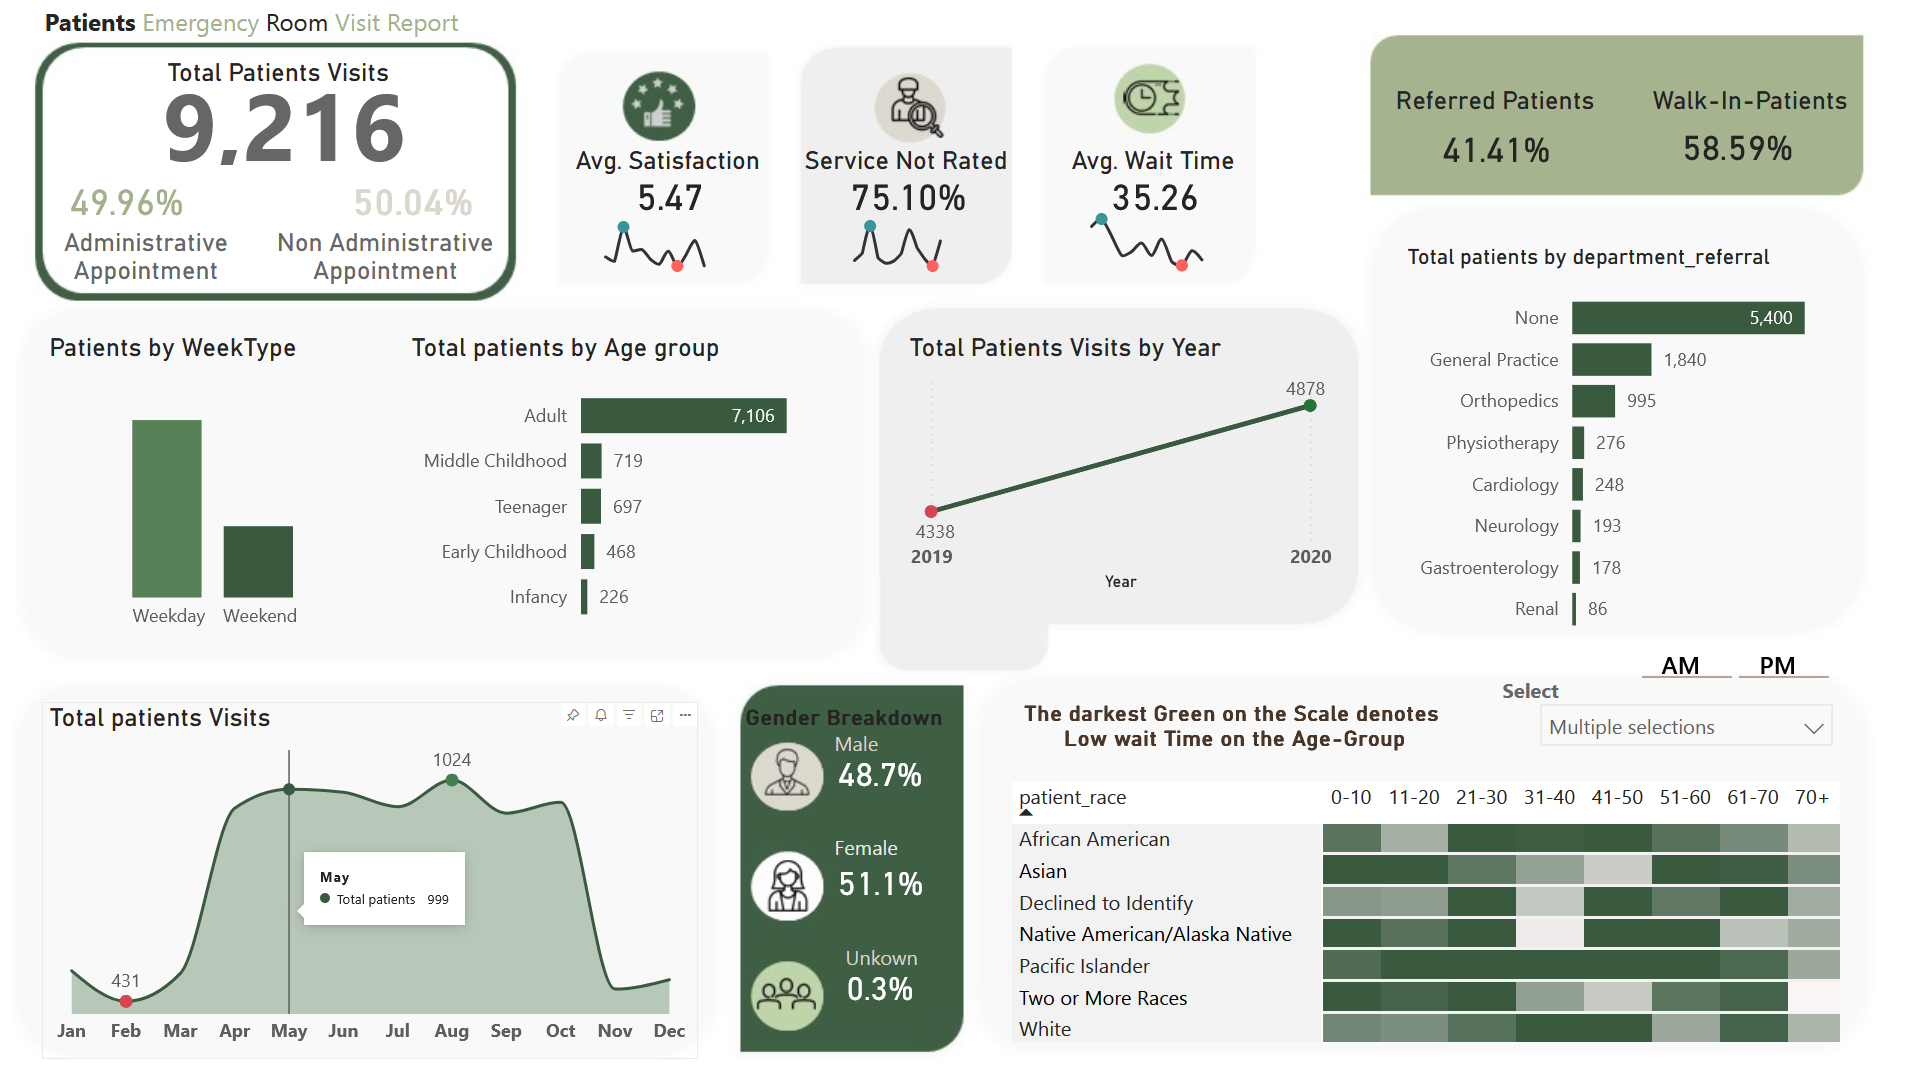

Layout of this report page (visuals, bound fields, positions):
{"tool":"powerbi","page":{"name":"Page 1","canvas":[1280,720],"ordinal":0},"visuals":[{"type":"card","fields":{"Values":["Calculations.Total patients"]},"box":[85,45.7,209.4,70.1],"z":0},{"type":"card","fields":{"Values":["Calculations.% Administrative Schedule"]},"box":[227.6,114.2,94.5,40.9],"z":1000},{"type":"card","fields":{"Values":["Calculations.% Non Administrative Schedule"]},"box":[37,113.4,96.1,41.7],"z":2000},{"type":"card","title":"Avg. Satisfaction","fields":{"Values":["Calculations.Average satisfaction score"]},"box":[378,97.6,133.9,48.8],"z":3000},{"type":"card","title":"Service Not Rated","fields":{"Values":["Calculations.% No Rating"]},"box":[529.9,97.6,147.2,48.8],"z":4000},{"type":"card","title":"Avg. Wait Time","fields":{"Values":["Calculations.Average wait time"]},"box":[707.1,97.6,120.5,48.8],"z":5000},{"type":"pivotTable","fields":{"Values":["Calculations.Average satisfaction score"],"Columns":["patients_data.Age Buckets"],"Rows":["patients_data.patient_race"]},"box":[667.8,515.1,560,183.5],"z":6000},{"type":"slicer","fields":{"Values":["Parameter.Parameter"]},"box":[1013.1,458.8,214.5,53.1],"z":7000},{"type":"clusteredBarChart","fields":{"Category":["patients_data.Age group"],"Y":["Calculations.Total patients"]},"box":[269.7,221.6,291.7,205.3],"z":8000},{"type":"areaChart","title":"Total patients Visits","fields":{"Category":["Date.Month"],"Y":["Calculations.Total patients","Calculations.Values Max Point (Month)"]},"box":[29,467.3,435.4,236.5],"z":9000},{"type":"advancedSlicerVisual","fields":{"Values":["patients_data.moment"]},"box":[1085.6,413.4,136,43.8],"z":10000},{"type":"clusteredBarChart","fields":{"Y":["Calculations.Total patients"],"Category":["patients_data.department_referral"]},"box":[930.3,161.2,306.6,271.4],"z":11000},{"type":"card","fields":{"Values":["Calculations.% Referred patients"]},"box":[921.1,77.9,145.8,43.9],"z":12000},{"type":"card","fields":{"Values":["Calculations.% Unreferred patients"]},"box":[1065.5,82.1,176.3,31.9],"z":13000},{"type":"card","fields":{"Values":["Calculations.HitMap Caption"]},"box":[647,457.2,346.4,53.1],"z":14000},{"type":"textbox","box":[29.1,146.5,137.8,48],"z":15000},{"type":"textbox","box":[179.5,146.5,154.3,53.5],"z":16000},{"type":"textbox","box":[1083.9,52.4,157.9,29.7],"z":17000},{"type":"textbox","box":[902.7,52.4,181.9,29.7],"z":18000},{"type":"clusteredColumnChart","title":"Patients by WeekType","fields":{"Y":["Calculations.Total patients"],"Category":["Date.WeekType"]},"box":[29.5,221.7,228.4,206.3],"z":19000},{"type":"lineChart","title":"Total Patients Visits by Year","fields":{"Y":["Calculations.Total patients","Calculations.Values Max Point (Year)"],"Category":["Date.Year"]},"box":[599.6,221.6,289.6,176.3],"z":20000},{"type":"card","fields":{"Values":["Calculations.% Female Visit"]},"box":[550.4,485.8,70.1,58.3],"z":21000},{"type":"card","fields":{"Values":["Calculations.% Male Visit"]},"box":[550.4,558.3,70.1,57.5],"z":22000},{"type":"card","fields":{"Values":["Calculations.% Unkown"]},"box":[550.4,627.6,70.1,57.5],"z":23000},{"type":"textbox","box":[89.9,34,192.6,47.4],"z":24000},{"type":"PBI_CV_25997FEB_F466_44FA_B562_AC4063283C4C","fields":{"measure":["Calculations.Average satisfaction score"],"axis":["Date.Month"]},"box":[385.1,134.5,105.5,53.8],"z":25000},{"type":"PBI_CV_25997FEB_F466_44FA_B562_AC4063283C4C","fields":{"measure":["Calculations.% No Rating"],"axis":["Date.Month"]},"box":[550.1,133.8,97,54.5],"z":26000},{"type":"PBI_CV_25997FEB_F466_44FA_B562_AC4063283C4C","fields":{"measure":["Calculations.Average wait time"],"axis":["Date.Month"]},"box":[707.3,129.6,113.3,58.8],"z":27000},{"type":"textbox","box":[475.8,462.3,171.3,33.3],"z":28000},{"type":"textbox","box":[550.1,480.7,43.9,29.7],"z":29000},{"type":"textbox","box":[557.2,622.3,63,26.2],"z":30000},{"type":"textbox","box":[550.1,549.4,55.2,29.7],"z":31000},{"type":"textbox","box":[993.3,445.2,47.8,26.5],"z":32000},{"type":"textbox","box":[25.9,0,461.8,33.8],"z":33000}]}

Visuals, with their boxes in screenshot pixels (x1, y1, x2, y2), scaled from the page's 1280x720 canvas onto the 1925x1080 screenshot:
card - Calculations.Total patients: pyautogui.locateOnScreen(128, 69, 443, 174)
card - Calculations.% Administrative Schedule: pyautogui.locateOnScreen(342, 171, 484, 233)
card - Calculations.% Non Administrative Schedule: pyautogui.locateOnScreen(56, 170, 200, 233)
"Avg. Satisfaction" card: pyautogui.locateOnScreen(568, 146, 770, 220)
"Service Not Rated" card: pyautogui.locateOnScreen(797, 146, 1018, 220)
"Avg. Wait Time" card: pyautogui.locateOnScreen(1063, 146, 1245, 220)
pivotTable - Calculations.Average satisfaction score x patients_data.Age Buckets: pyautogui.locateOnScreen(1004, 773, 1846, 1048)
slicer - Parameter.Parameter: pyautogui.locateOnScreen(1524, 688, 1846, 768)
clusteredBarChart - patients_data.Age group x Calculations.Total patients: pyautogui.locateOnScreen(406, 332, 844, 640)
"Total patients Visits" areaChart: pyautogui.locateOnScreen(44, 701, 698, 1056)
advancedSlicerVisual - patients_data.moment: pyautogui.locateOnScreen(1633, 620, 1837, 686)
clusteredBarChart - Calculations.Total patients x patients_data.department_referral: pyautogui.locateOnScreen(1399, 242, 1860, 649)
card - Calculations.% Referred patients: pyautogui.locateOnScreen(1385, 117, 1605, 183)
card - Calculations.% Unreferred patients: pyautogui.locateOnScreen(1602, 123, 1868, 171)
card - Calculations.HitMap Caption: pyautogui.locateOnScreen(973, 686, 1494, 765)
textbox: pyautogui.locateOnScreen(44, 220, 251, 292)
textbox: pyautogui.locateOnScreen(270, 220, 502, 300)
textbox: pyautogui.locateOnScreen(1630, 79, 1868, 123)
textbox: pyautogui.locateOnScreen(1358, 79, 1631, 123)
"Patients by WeekType" clusteredColumnChart: pyautogui.locateOnScreen(44, 333, 388, 642)
"Total Patients Visits by Year" lineChart: pyautogui.locateOnScreen(902, 332, 1337, 597)
card - Calculations.% Female Visit: pyautogui.locateOnScreen(828, 729, 933, 816)
card - Calculations.% Male Visit: pyautogui.locateOnScreen(828, 837, 933, 924)
card - Calculations.% Unkown: pyautogui.locateOnScreen(828, 941, 933, 1028)
textbox: pyautogui.locateOnScreen(135, 51, 425, 122)
PBI_CV_25997FEB_F466_44FA_B562_AC4063283C4C - Calculations.Average satisfaction score x Date.Month: pyautogui.locateOnScreen(579, 202, 738, 282)
PBI_CV_25997FEB_F466_44FA_B562_AC4063283C4C - Calculations.% No Rating x Date.Month: pyautogui.locateOnScreen(827, 201, 973, 282)
PBI_CV_25997FEB_F466_44FA_B562_AC4063283C4C - Calculations.Average wait time x Date.Month: pyautogui.locateOnScreen(1064, 194, 1234, 283)
textbox: pyautogui.locateOnScreen(716, 693, 973, 743)
textbox: pyautogui.locateOnScreen(827, 721, 893, 766)
textbox: pyautogui.locateOnScreen(838, 933, 933, 973)
textbox: pyautogui.locateOnScreen(827, 824, 910, 869)
textbox: pyautogui.locateOnScreen(1494, 668, 1566, 708)
textbox: pyautogui.locateOnScreen(39, 0, 733, 51)
